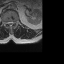CCS_normal: (9, 19, 11, 28)
LFS_normal: (14, 18, 16, 25)
LLS_normal: (11, 19, 14, 27)
RFS_normal: (5, 19, 7, 25)
RLS_normal: (7, 19, 9, 26)
